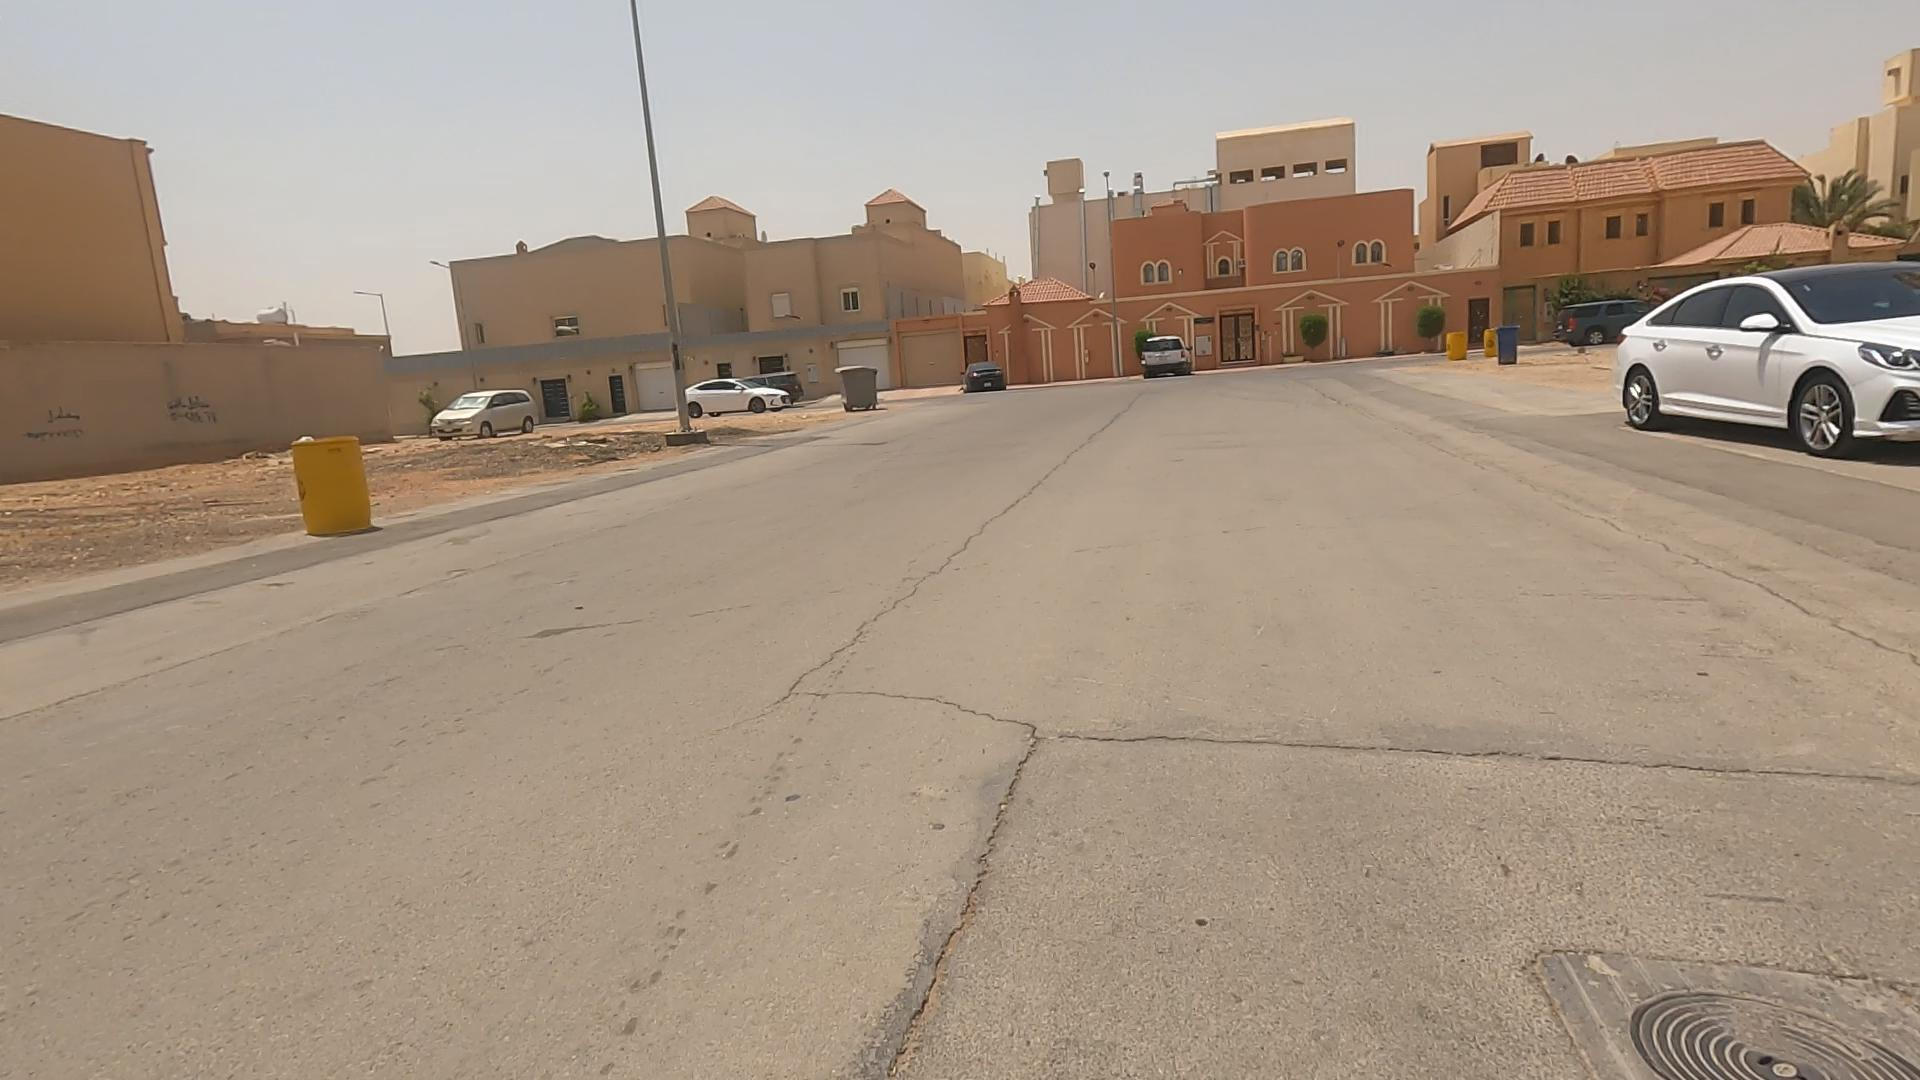GRAFFITI: (61, 353, 313, 473)
